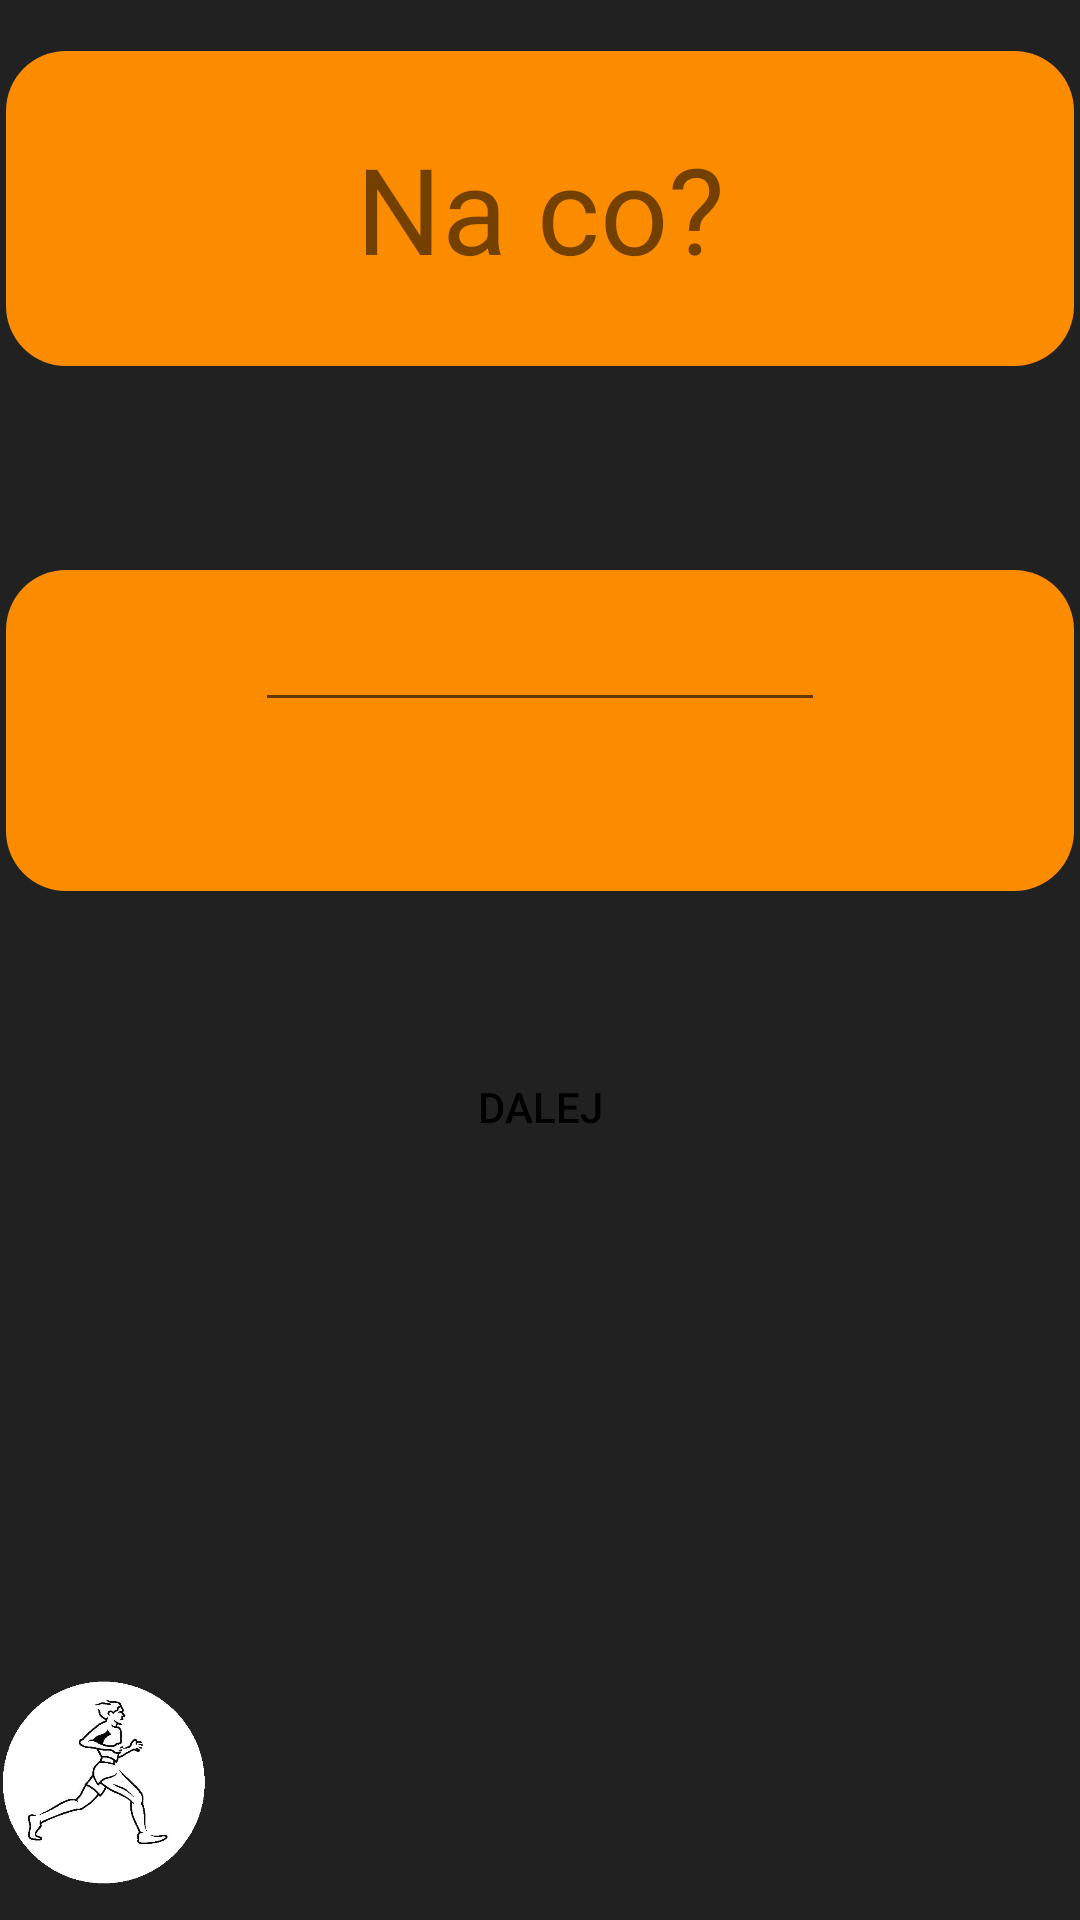

Where to tap for icons on this 1080 × 1920 app screen, as point (x, y):
biegaczz: point (104, 1782)
